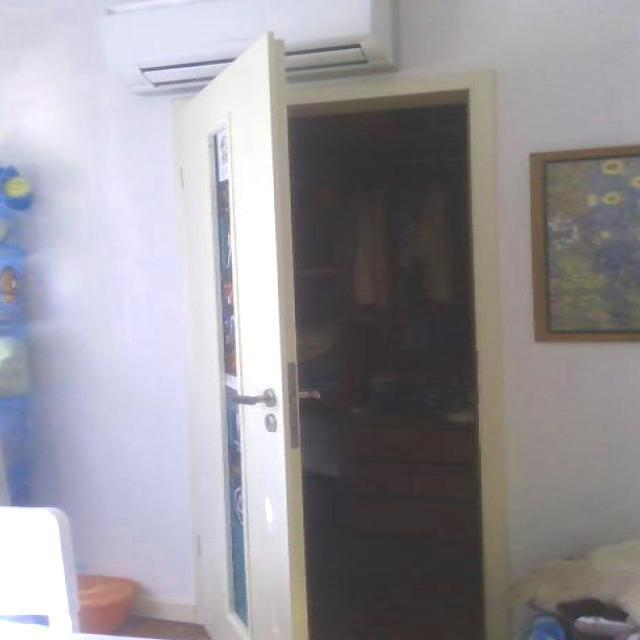door: (171, 29, 307, 639)
